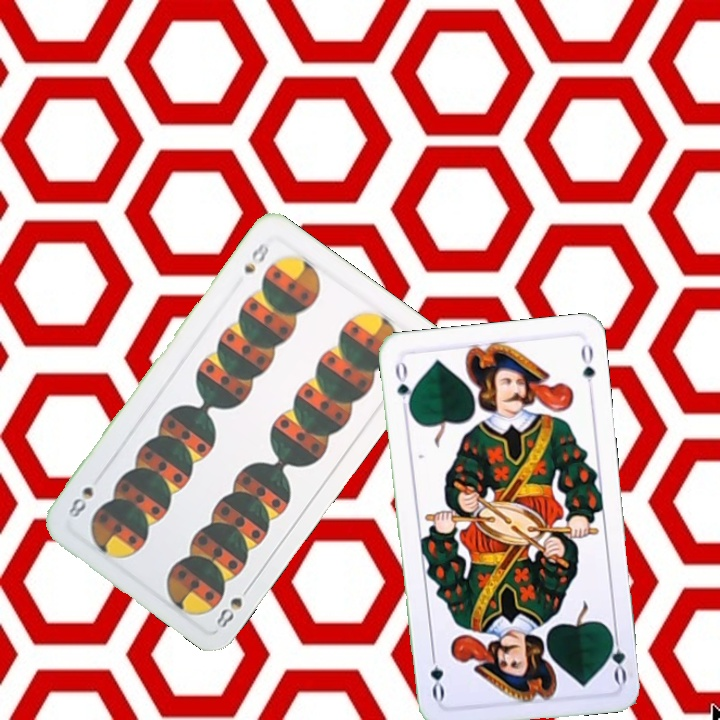GO: (603, 626, 629, 686), (391, 356, 416, 416)
S8: (212, 580, 255, 631), (239, 238, 272, 277)
